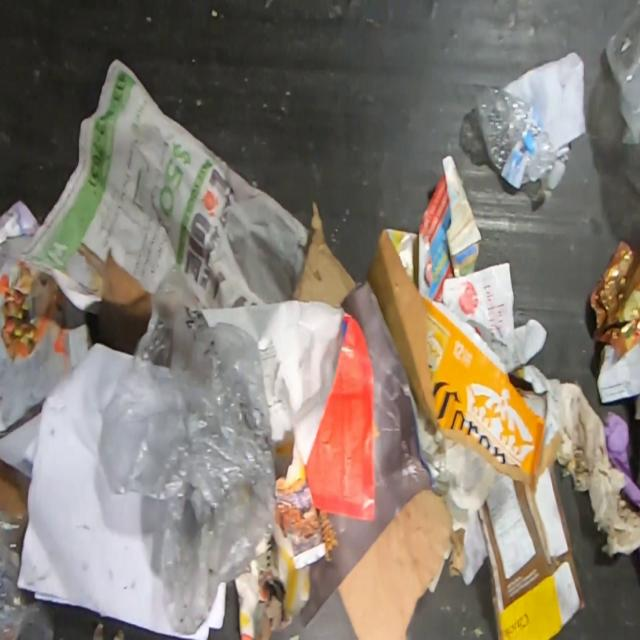cardboard: (364, 229, 544, 490), (478, 372, 585, 639), (336, 486, 467, 639), (292, 199, 356, 308), (94, 253, 156, 357)
rigid_plastic: (477, 84, 566, 191)
soft_plastic: (99, 261, 277, 612), (0, 509, 66, 637), (605, 19, 640, 146)
